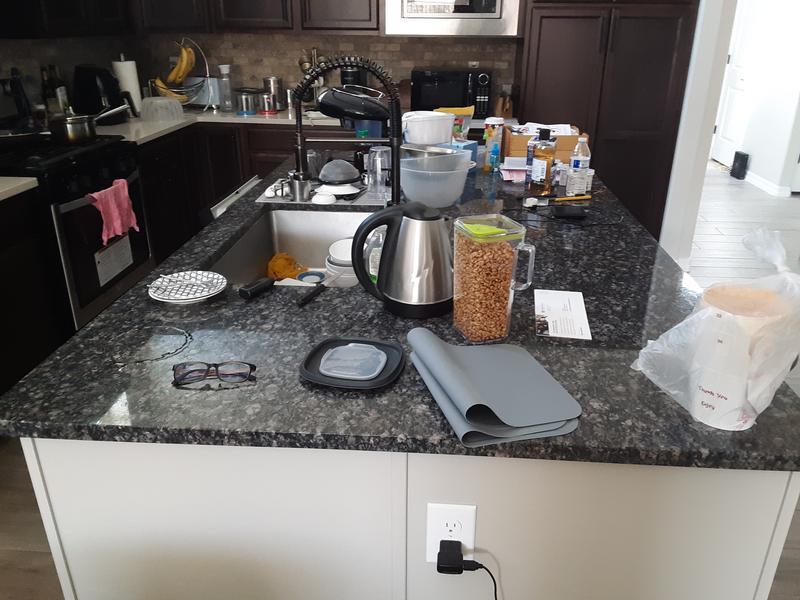glasses: (169, 361, 258, 387)
